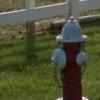Hydrant: (45, 10, 89, 100)
